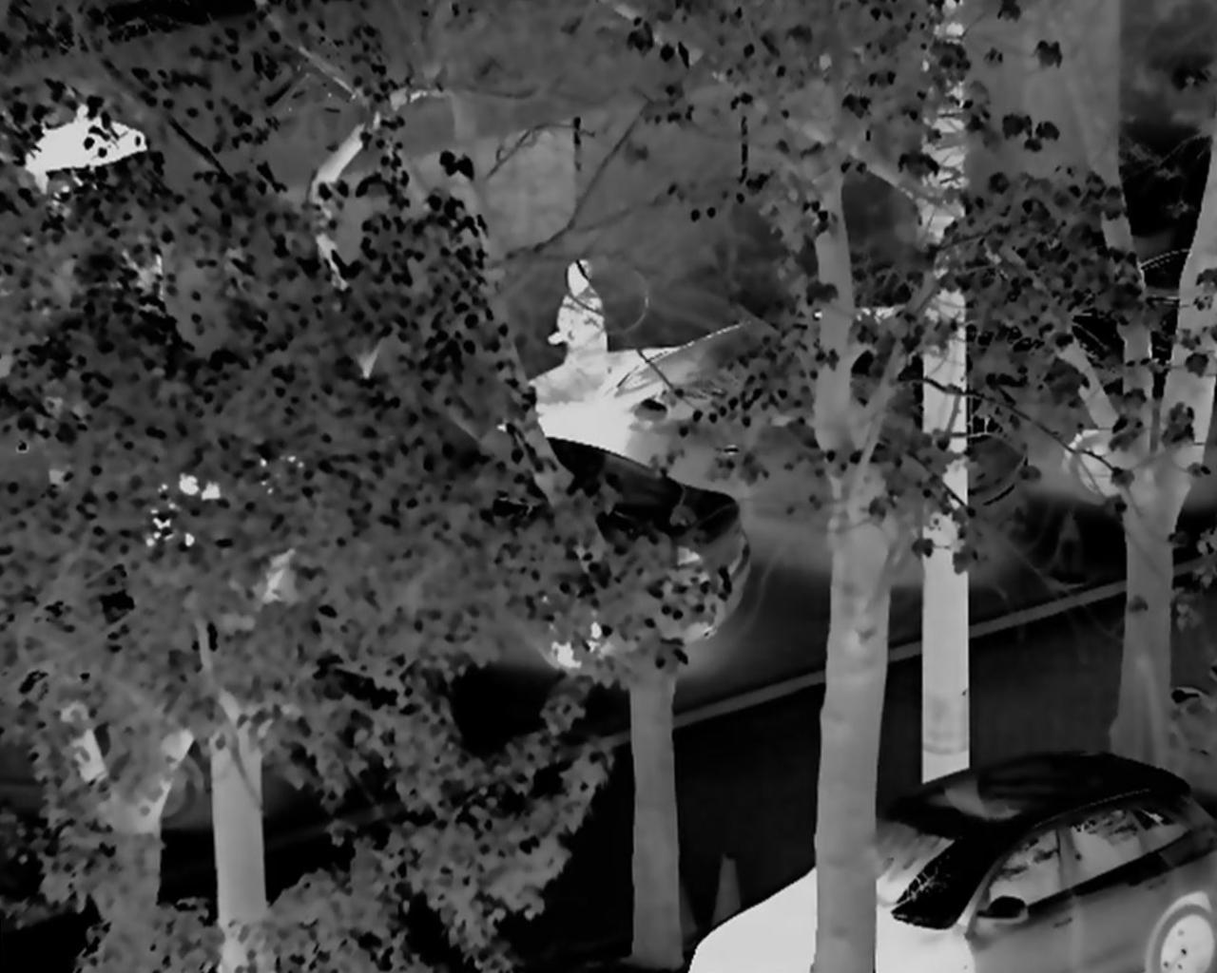person: (542, 255, 612, 405)
